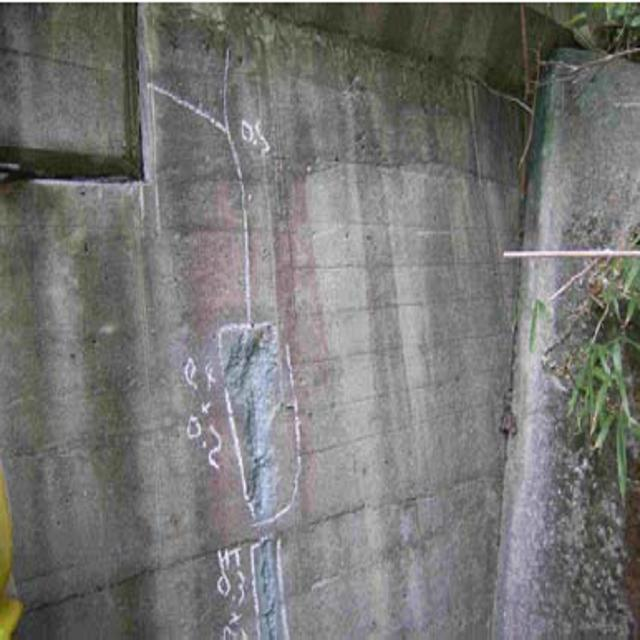spalling: (206, 328, 316, 632)
